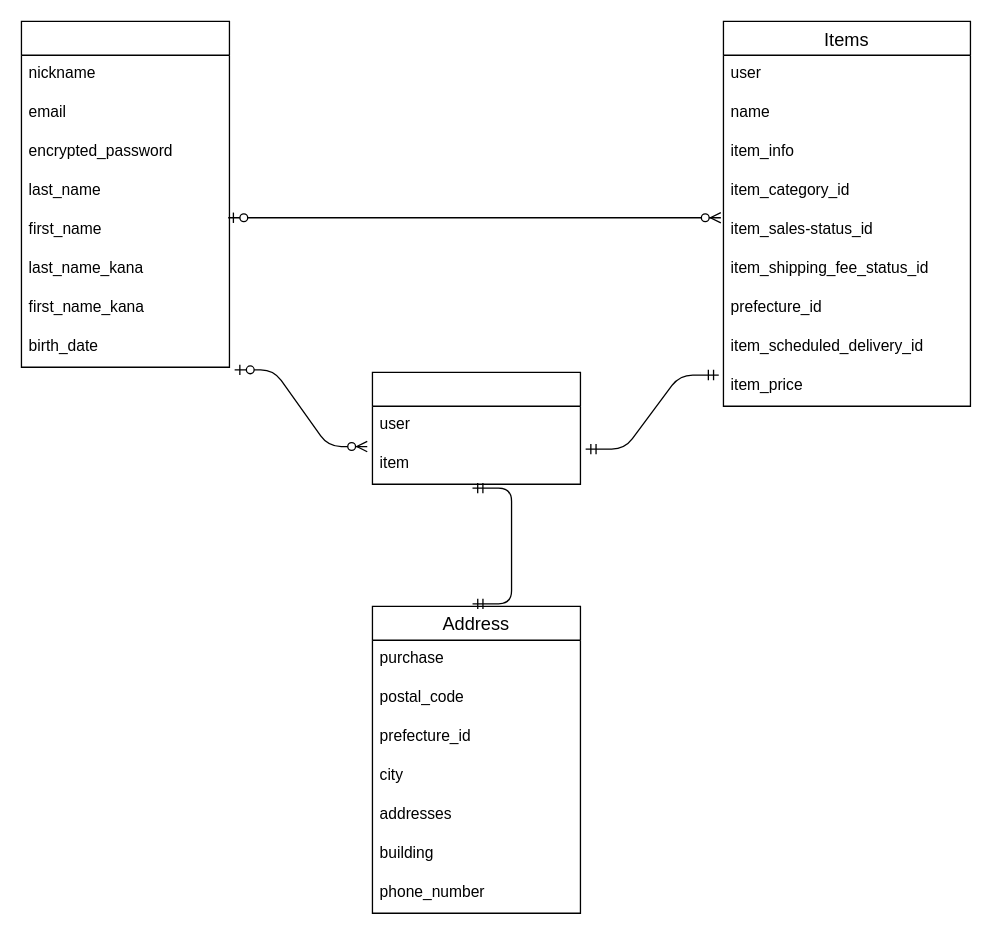
The diagram is 992 pixels wide and 935 high, and some of its shapes have lost their labels. Each missing label, with the box of its shape:
Purchases: (371, 371, 580, 484)
Users: (20, 20, 229, 367)
